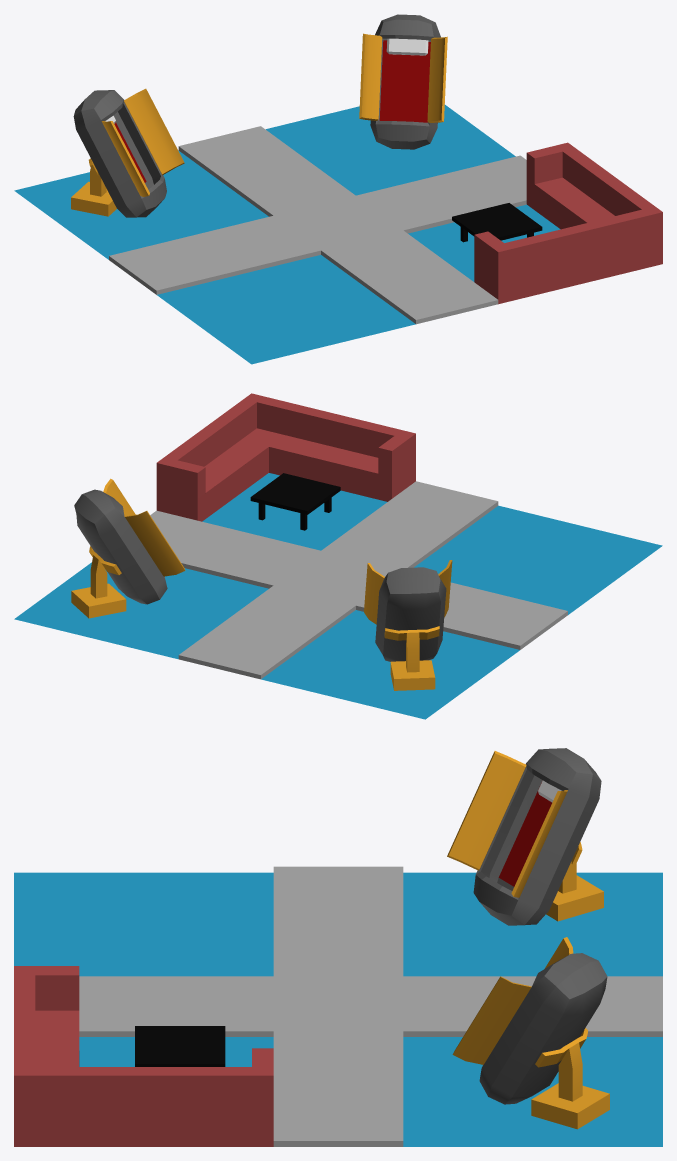
The model's file is Room 6 - Sleeping Draft - New.fbx.
3 renders of one model, top to bottom at view 1: azimuth 30°, elevation 25°; view 2: azimuth 150°, elevation 25°; view 3: azimuth 270°, elevation 25°, orthographic. The views are drawn at different scales.
Parts seen in each view (by area): view 1: pPlane1, pCube3, polySurface1 (×2), polySurface4 (×2), polySurface3 (×2), pCube4, Stand, pCube2; view 2: pPlane1, pCube3, polySurface1 (×2), Stand (×2), pCube4, polySurface3, polySurface4; view 3: pPlane1, pCube3, polySurface1 (×2), Stand (×2), polySurface4 (×2), polySurface3, pCube4.
Boxes of the visible parts, box(x1,y1,x2,y2) form: pPlane1: box(14, 104, 560, 364); pCube3: box(474, 142, 662, 304); polySurface1 (×2): box(73, 14, 440, 217); polySurface4 (×2): box(124, 36, 447, 175); polySurface3 (×2): box(101, 33, 382, 196); pCube4: box(452, 203, 542, 242); Stand: box(71, 158, 116, 216); pCube2: box(386, 38, 428, 55); pPlane1: box(14, 473, 662, 719); pCube3: box(156, 393, 415, 521); polySurface1 (×2): box(74, 489, 446, 661); Stand (×2): box(71, 546, 439, 690); pCube4: box(250, 473, 340, 530); polySurface3: box(125, 511, 185, 576); polySurface4: box(364, 563, 384, 624); pPlane1: box(14, 866, 662, 1146); pCube3: box(14, 966, 273, 1146); polySurface1 (×2): box(473, 748, 607, 1104); Stand (×2): box(531, 842, 609, 1129); polySurface4 (×2): box(452, 790, 567, 1064); polySurface3: box(447, 751, 526, 870); pCube4: box(135, 1026, 225, 1066).
Size of the model in its own units: 10 by 2.57 by 10.
